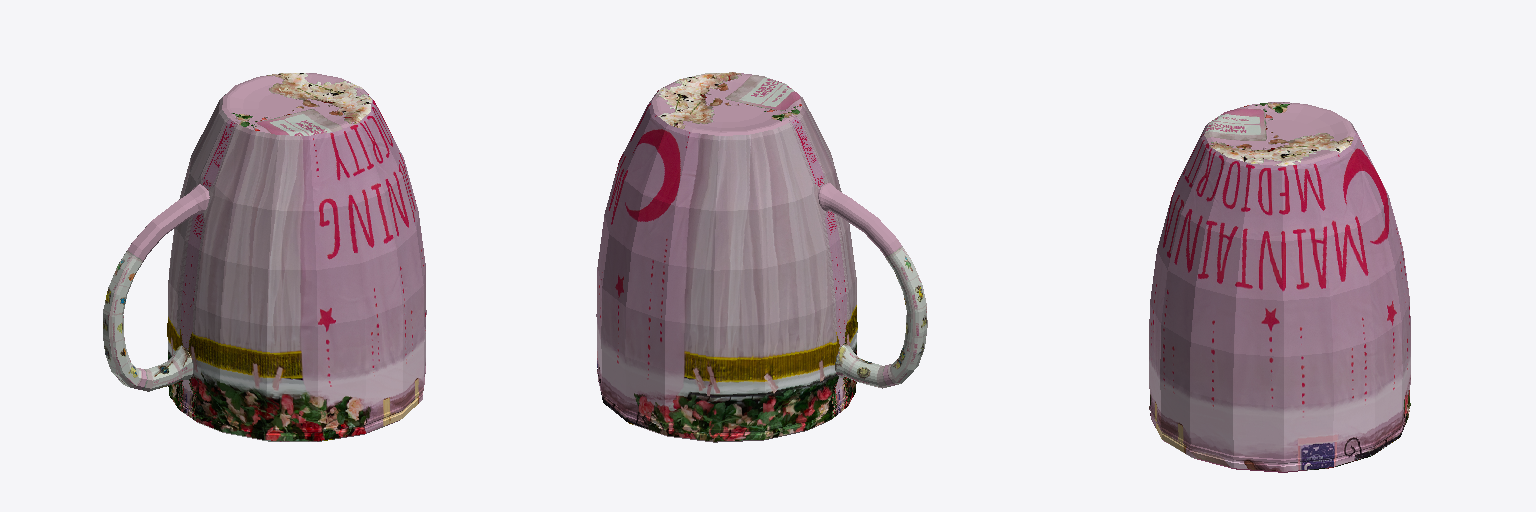
The picture shows the model from 3 angles: view 1: azimuth 30°, elevation 25°; view 2: azimuth 150°, elevation 25°; view 3: azimuth 270°, elevation 25°; orthographic projection.
Visible parts, largest first — view 1: crockery_cup_mesh; view 2: crockery_cup_mesh; view 3: crockery_cup_mesh.
Part boxes in pixels (x1,y1,x2,y2): crockery_cup_mesh: (103,73,426,441); crockery_cup_mesh: (596,72,927,442); crockery_cup_mesh: (1149,102,1410,472).
Bounding box in the file's own units: 11.29 × 9.99 × 8.3.
1 materials, 1 textured.